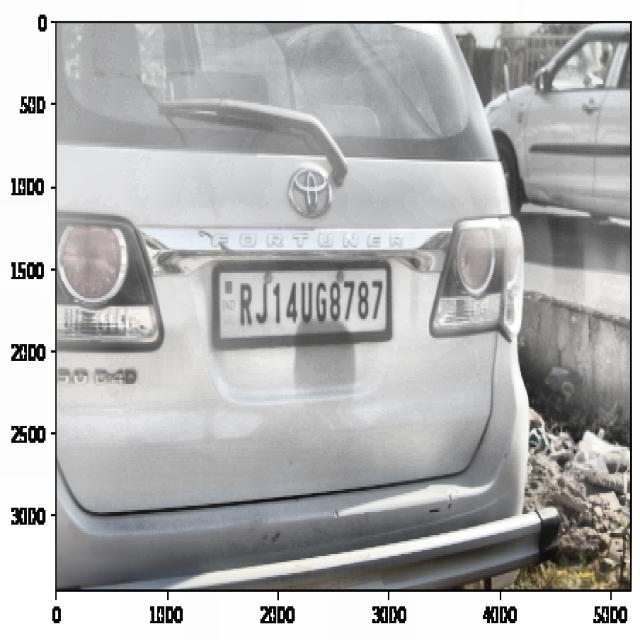license_plate: (232, 274, 387, 332)
